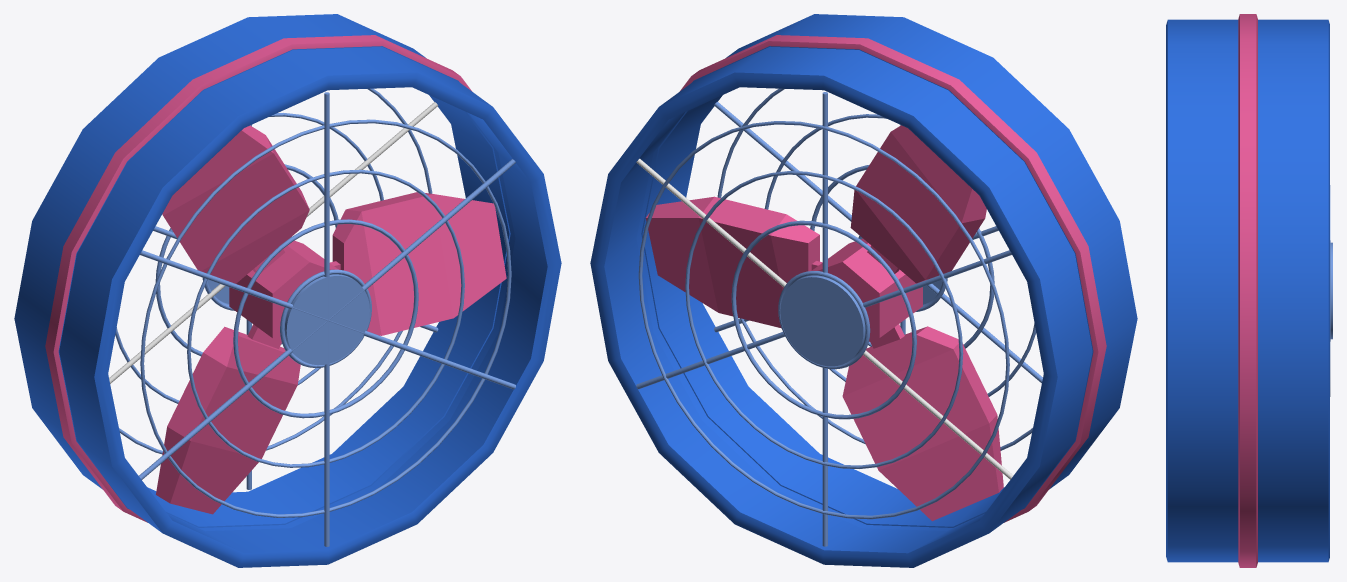
The model's file is fan.glb.
3 renders of one model, left to right at view 1: azimuth 30°, elevation 25°; view 2: azimuth 150°, elevation 25°; view 3: azimuth 270°, elevation 25°, orthographic.
Parts seen in each view (by area): view 1: Cylinder, Cylinder.004, Torus.002, Torus.001, Cylinder.005, Cylinder.006, Cylinder.007, Cylinder.002; view 2: Cylinder, Cylinder.004, Torus.001, Torus.002, Cylinder.002, Cylinder.001, Cylinder.003, Cylinder.005; view 3: Cylinder, Torus.001.
Part boxes in pixels (left/top/right/bottom): Cylinder: left=14, top=14, right=561, bottom=567; Cylinder.004: left=156, top=125, right=506, bottom=514; Torus.002: left=140, top=119, right=511, bottom=517; Torus.001: left=115, top=88, right=432, bottom=454; Cylinder.005: left=139, top=159, right=515, bottom=480; Cylinder.006: left=324, top=92, right=329, bottom=546; Cylinder.007: left=140, top=250, right=515, bottom=389; Cylinder.002: left=109, top=102, right=438, bottom=383; Cylinder: left=590, top=14, right=1137, bottom=567; Cylinder.004: left=645, top=125, right=1003, bottom=521; Torus.001: left=638, top=121, right=1009, bottom=519; Torus.002: left=717, top=88, right=1036, bottom=450; Cylinder.002: left=636, top=158, right=1013, bottom=479; Cylinder.001: left=822, top=92, right=827, bottom=546; Cylinder.003: left=636, top=250, right=1011, bottom=389; Cylinder.005: left=714, top=101, right=1042, bottom=383; Cylinder: left=1166, top=14, right=1329, bottom=567; Torus.001: left=1330, top=185, right=1332, bottom=396.
Bounding box in the file's own units: 2.04 × 2.04 × 0.6139.
